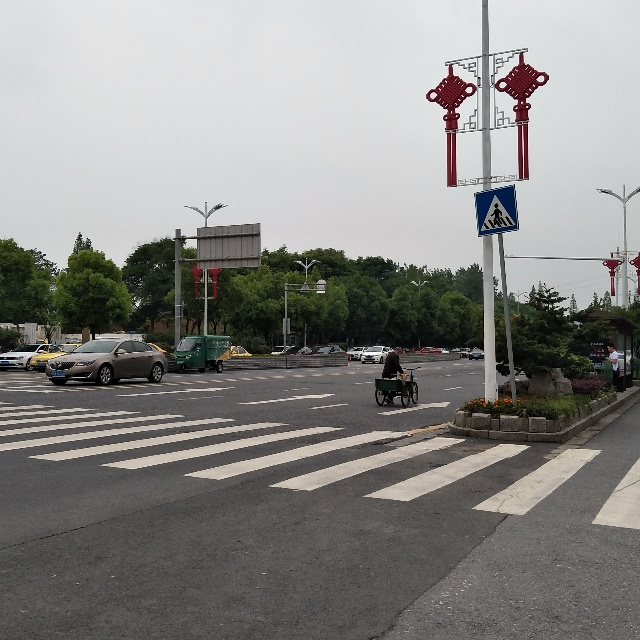crosswalk: (473, 184, 520, 241)
